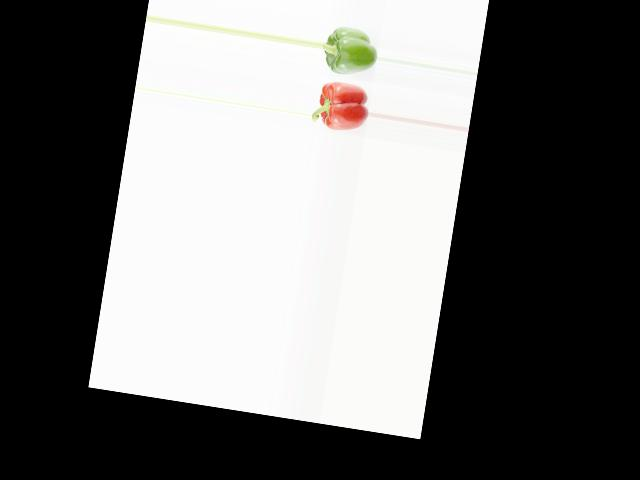bell_pepper: (319, 22, 379, 80)
